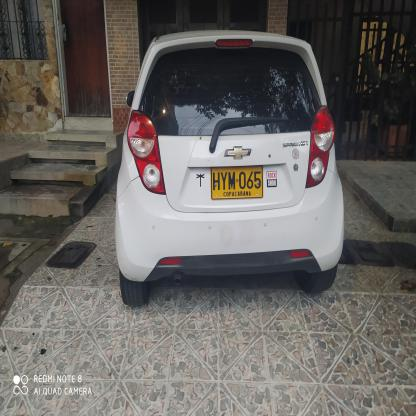placa: (209, 164, 266, 204)
